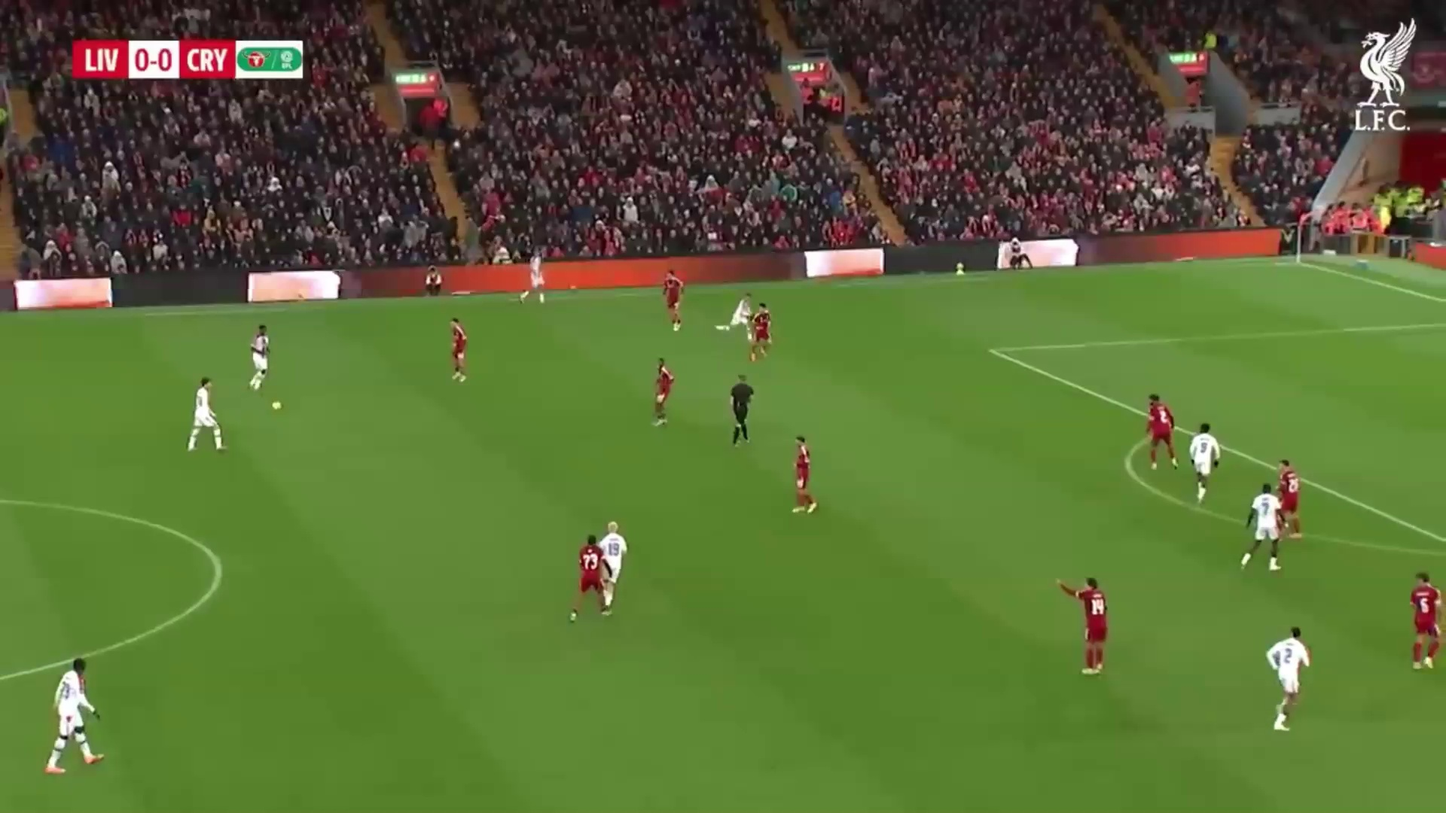player: (43, 660, 103, 774), (1055, 577, 1108, 677), (1266, 622, 1313, 732), (1238, 488, 1283, 576), (572, 538, 619, 619), (1409, 573, 1445, 672), (1075, 578, 1108, 676), (186, 376, 226, 454), (598, 520, 627, 613), (1189, 422, 1219, 506), (1143, 393, 1176, 468), (1275, 461, 1301, 538), (728, 378, 755, 445), (791, 435, 813, 515), (249, 324, 273, 391), (748, 305, 774, 362), (448, 317, 470, 384), (652, 359, 674, 426), (663, 270, 685, 331), (522, 257, 548, 304)
